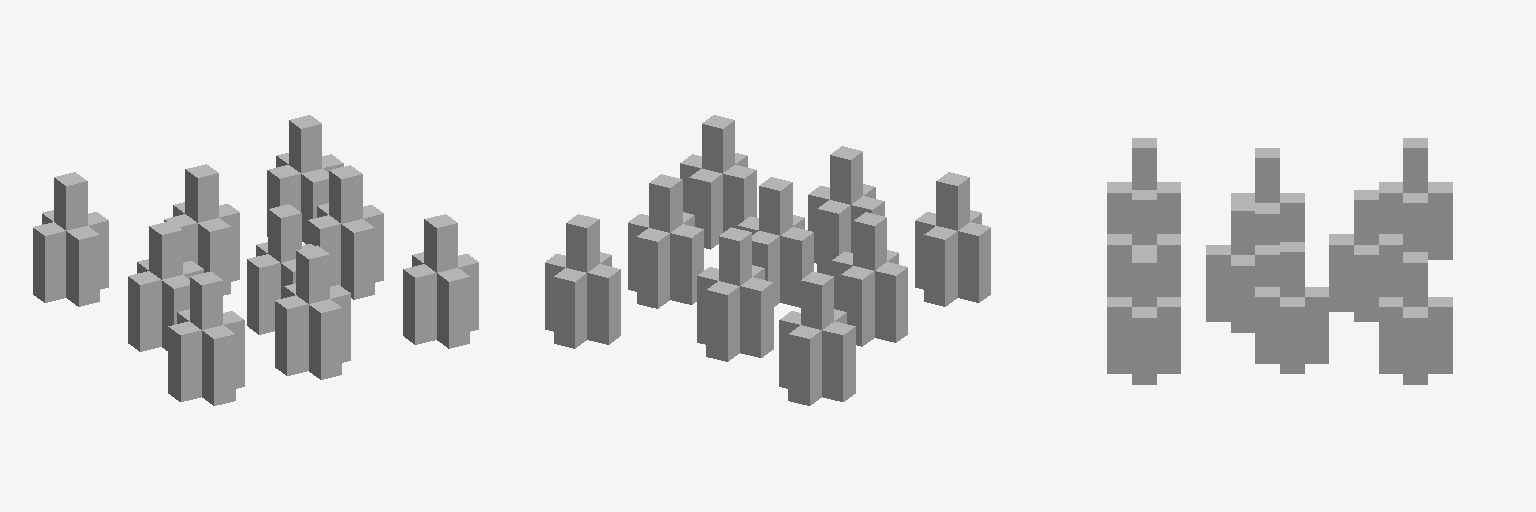
Rendered from trapworks_spikes_spikes_fall.obj.
3 views of the same model, side by side, from view 1: azimuth 30°, elevation 25°; view 2: azimuth 150°, elevation 25°; view 3: azimuth 270°, elevation 25° (orthographic).
Visible parts, largest first — view 1: node_0_0_0; view 2: node_0_0_0; view 3: node_0_0_0.
Part boxes in pixels (x1,y1,x2,y2): node_0_0_0: (33, 115, 478, 405); node_0_0_0: (545, 115, 990, 405); node_0_0_0: (1107, 138, 1452, 384).
Bounding box in the file's own units: 0.875 × 0.3125 × 0.875.